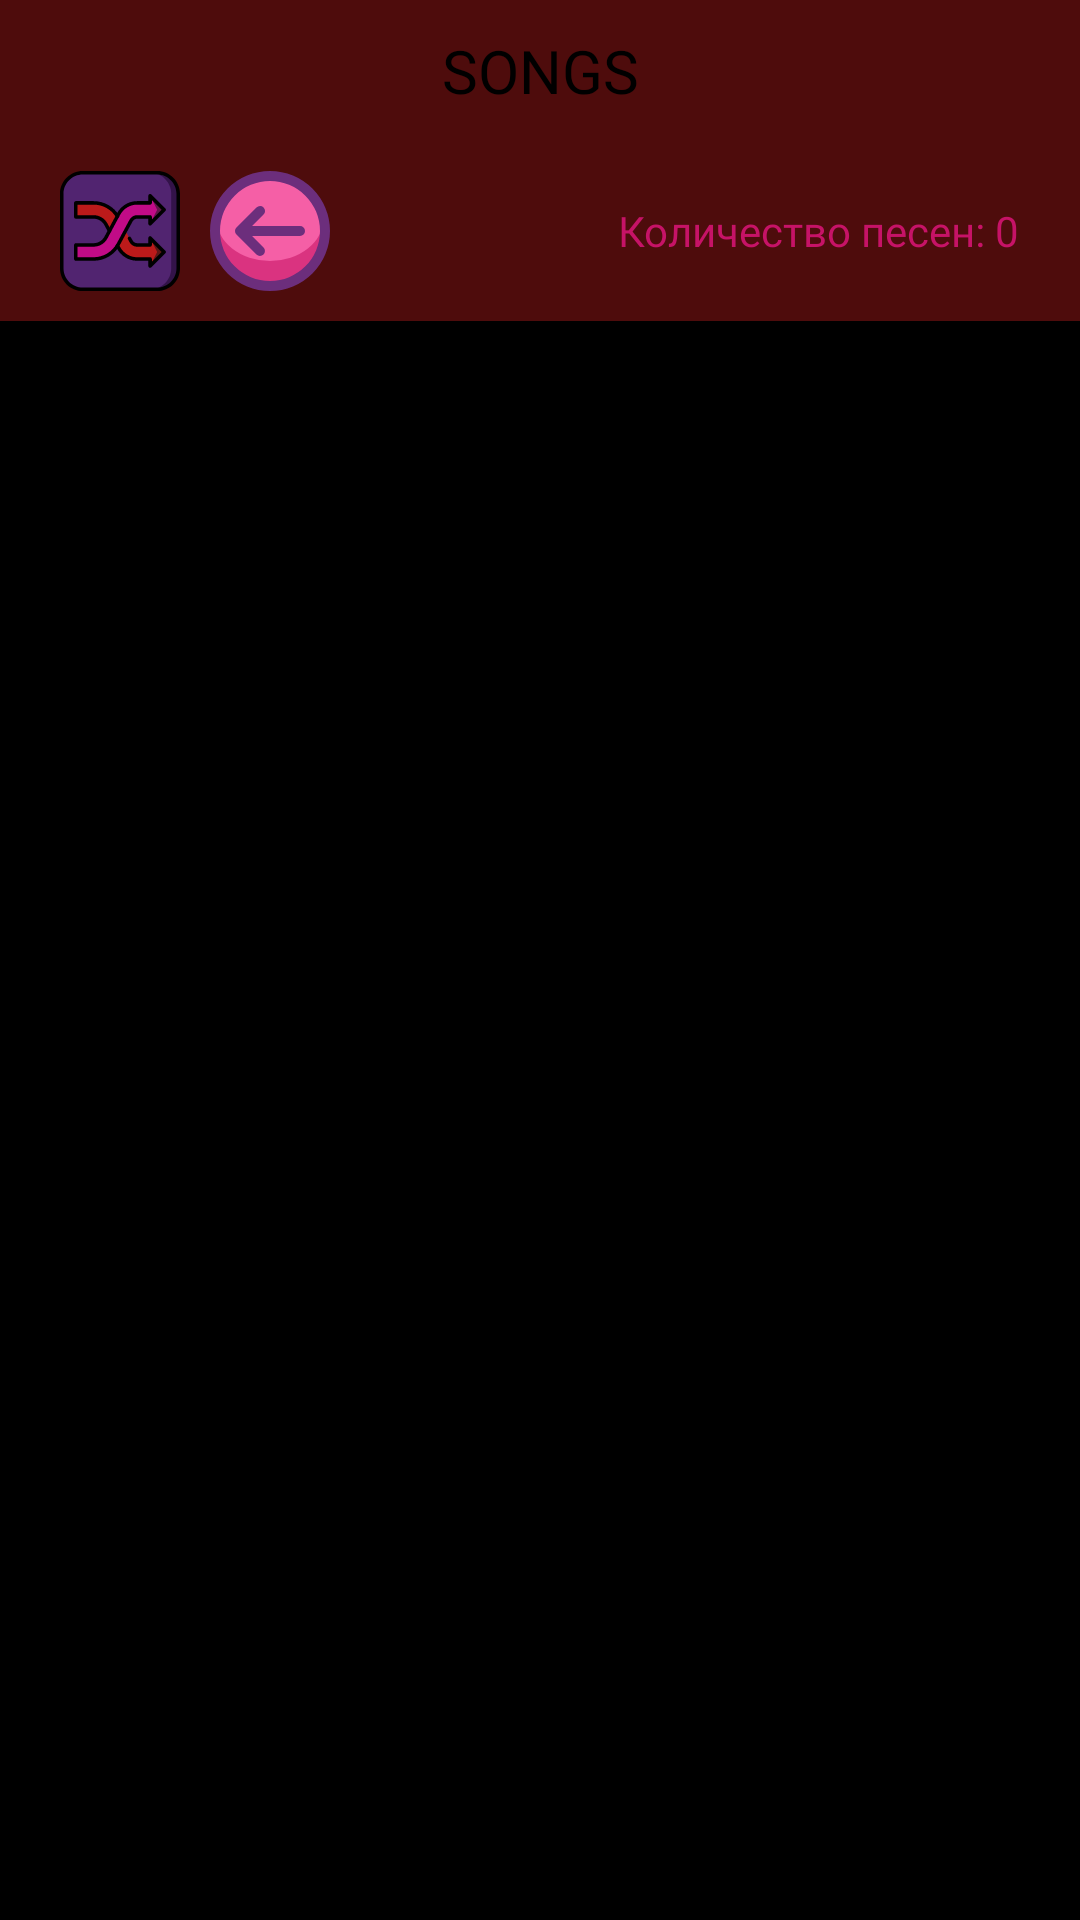

Named icons in this screenshot (1080 × 1920) and their bounding boxes, (x1, y1, x2, y2):
shuffle: (60, 171, 180, 291)
